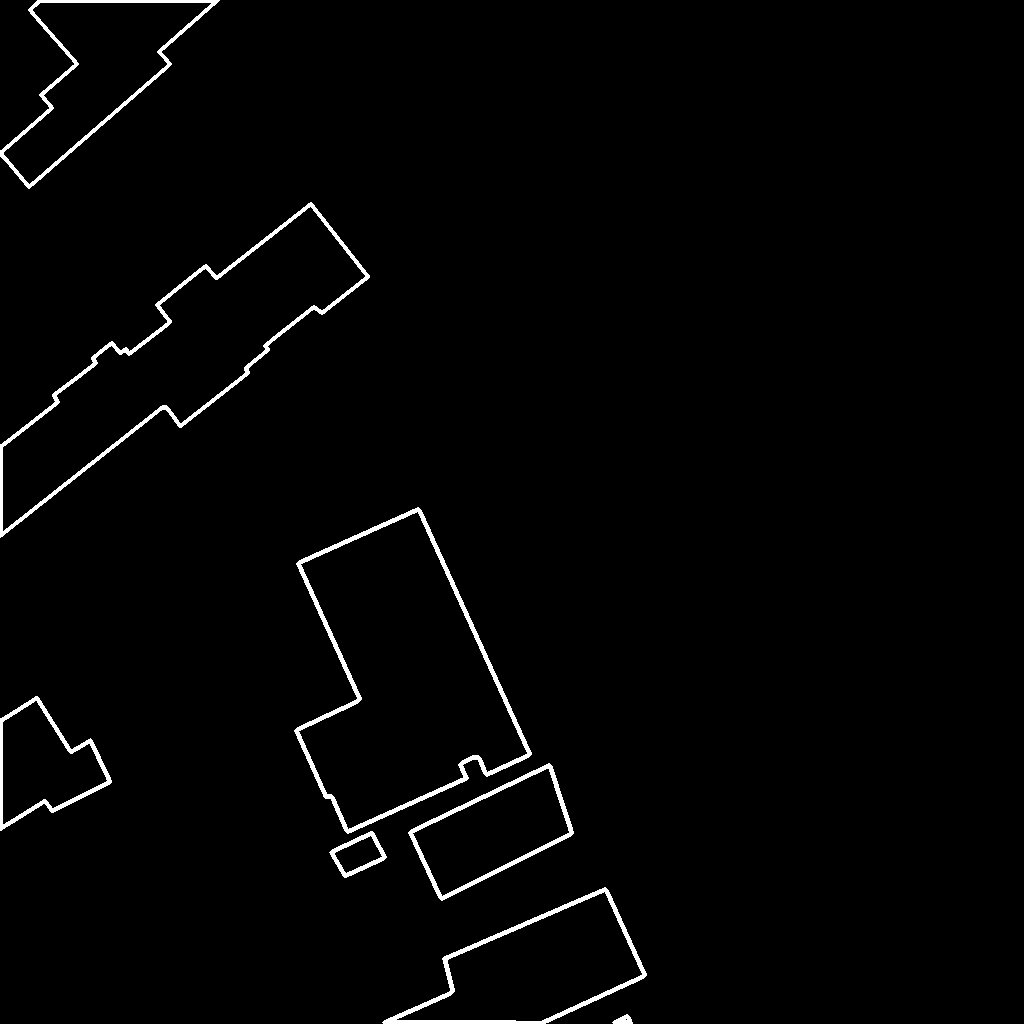building: (0, 204, 369, 537), (296, 509, 531, 833), (0, 0, 219, 188), (383, 889, 646, 1024), (410, 765, 573, 900), (0, 698, 111, 830), (331, 833, 386, 877), (613, 1016, 632, 1024)
